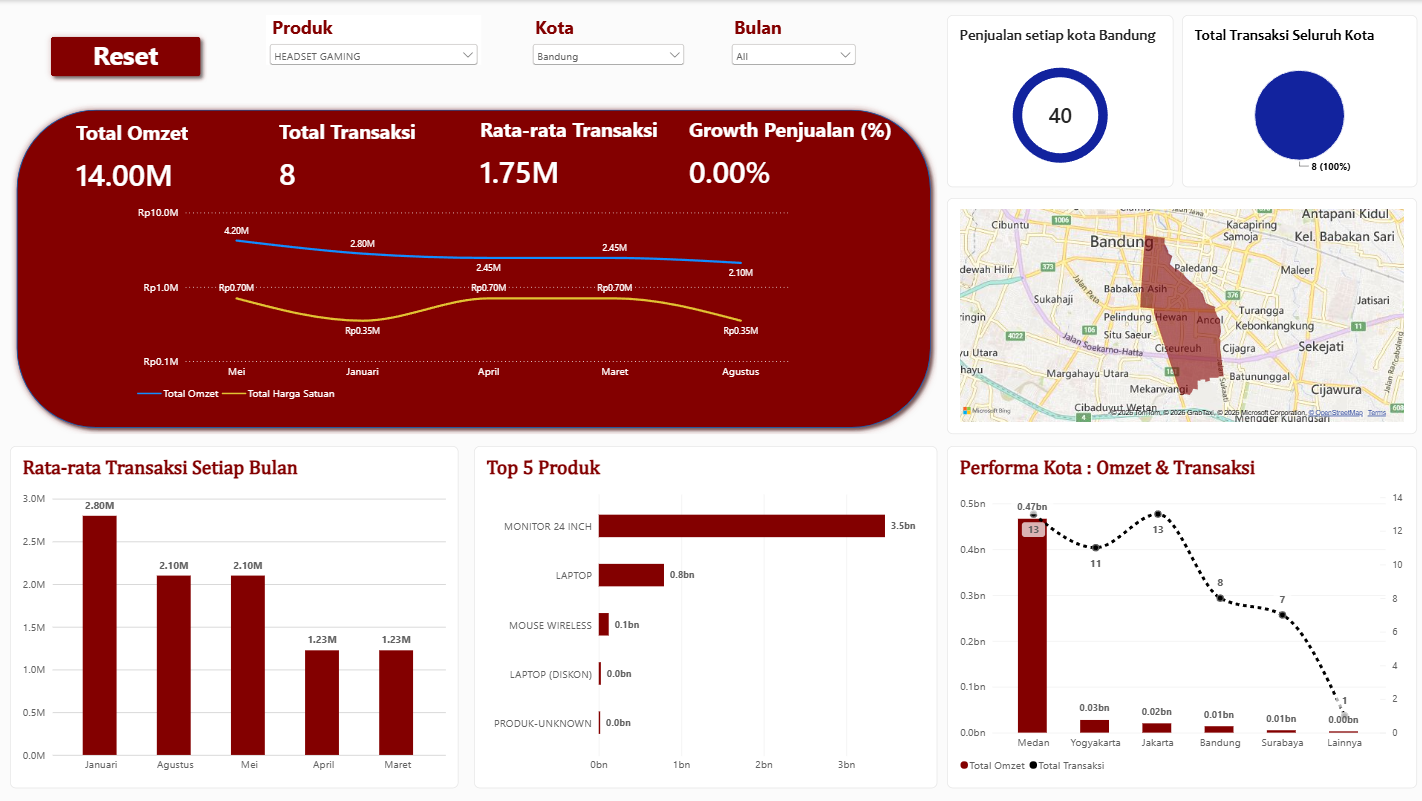

The dashboard page shown, as its layout file describes it:
{"tool":"powerbi","page":{"name":"Duplicate of Duplicate of Page 1","canvas":[1920,1080],"ordinal":0},"visuals":[{"type":"shape","box":[14.6,138.6,1248.9,446.4],"z":0},{"type":"cardVisual","fields":{"Data":["public produksi.Total Omzet"]},"box":[87.5,135.7,300,150],"z":1000},{"type":"lineChart","fields":{"Category":["public produksi.Bulan"],"Y":["public produksi.Total Omzet","public produksi.Total Harga Satuan"]},"box":[170.7,261.2,911.9,299.1],"z":2000},{"type":"slicer","fields":{"Values":["public produksi.Produk"]},"box":[358.9,20.4,290.3,67.1],"z":3000},{"type":"slicer","fields":{"Values":["calendar.Month name"]},"box":[981.9,20.4,176.5,67.1],"z":4000},{"type":"cardVisual","fields":{"Data":["public produksi.Total Transaksi"]},"box":[360.4,134.2,300,150],"z":5000},{"type":"filledMap","fields":{"Category":["public produksi.Kota_Toko"]},"box":[1276.6,267,633.2,318.1],"z":6000},{"type":"slicer","fields":{"Values":["public produksi.Kota_Toko"]},"box":[713.4,20.4,214.5,67.1],"z":7000},{"type":"clusteredColumnChart","title":"Rata-rata Transaksi Setiap Bulan","fields":{"Category":["public produksi.Bulan"],"Y":["public produksi.Rata-rata Transaksi"]},"box":[14.6,601.1,604,461],"z":8000},{"type":"cardVisual","fields":{"Data":["public produksi.Rata-rata Transaksi"]},"box":[631.7,131.3,300,150],"z":9000},{"type":"cardVisual","fields":{"Data":["public produksi.Growth Penjualan (%)"]},"box":[913.3,131.3,319.5,150.3],"z":10000},{"type":"donutChart","fields":{"Category":["public produksi.Kota_Toko"],"Y":["public produksi.Total Quantity"]},"box":[1276.6,20.4,304.9,232],"z":11000},{"type":"clusteredBarChart","title":"Top 5 Produk","fields":{"Category":["public produksi.Produk"],"Y":["public produksi.Total Omzet"]},"box":[639,601.1,624.4,461],"z":12000},{"type":"lineClusteredColumnComboChart","title":"Performa Kota : Omzet & Transaksi","fields":{"Category":["public produksi.Kota_Toko"],"Y":["public produksi.Total Omzet"],"Y2":["public produksi.Total Transaksi"]},"box":[1276.6,601.1,633,461],"z":13000},{"type":"pieChart","title":"Total Transaksi Seluruh Kota","fields":{"Category":["public produksi.Kota_Toko"],"Y":["public produksi.Total Transaksi"]},"box":[1593.2,20.4,316.6,232],"z":14000},{"type":"actionButton","box":[60,40,220,71.4],"z":15000}]}

Visuals, with their boxes in screenshot pixels (x1, y1, x2, y2), scaled from the page's 1920x1080 canvas onto the 1422x801 screenshot:
shape: {"x1": 11, "y1": 103, "x2": 936, "y2": 434}
cardVisual - public produksi.Total Omzet: {"x1": 65, "y1": 101, "x2": 287, "y2": 212}
lineChart - public produksi.Bulan x public produksi.Total Omzet: {"x1": 126, "y1": 194, "x2": 802, "y2": 416}
slicer - public produksi.Produk: {"x1": 266, "y1": 15, "x2": 481, "y2": 65}
slicer - calendar.Month name: {"x1": 727, "y1": 15, "x2": 858, "y2": 65}
cardVisual - public produksi.Total Transaksi: {"x1": 267, "y1": 100, "x2": 489, "y2": 211}
filledMap - public produksi.Kota_Toko: {"x1": 945, "y1": 198, "x2": 1414, "y2": 434}
slicer - public produksi.Kota_Toko: {"x1": 528, "y1": 15, "x2": 687, "y2": 65}
"Rata-rata Transaksi Setiap Bulan" clusteredColumnChart: {"x1": 11, "y1": 446, "x2": 458, "y2": 788}
cardVisual - public produksi.Rata-rata Transaksi: {"x1": 468, "y1": 97, "x2": 690, "y2": 209}
cardVisual - public produksi.Growth Penjualan (%): {"x1": 676, "y1": 97, "x2": 913, "y2": 209}
donutChart - public produksi.Kota_Toko x public produksi.Total Quantity: {"x1": 945, "y1": 15, "x2": 1171, "y2": 187}
"Top 5 Produk" clusteredBarChart: {"x1": 473, "y1": 446, "x2": 936, "y2": 788}
"Performa Kota : Omzet & Transaksi" lineClusteredColumnComboChart: {"x1": 945, "y1": 446, "x2": 1414, "y2": 788}
"Total Transaksi Seluruh Kota" pieChart: {"x1": 1180, "y1": 15, "x2": 1414, "y2": 187}
actionButton: {"x1": 44, "y1": 30, "x2": 207, "y2": 83}
